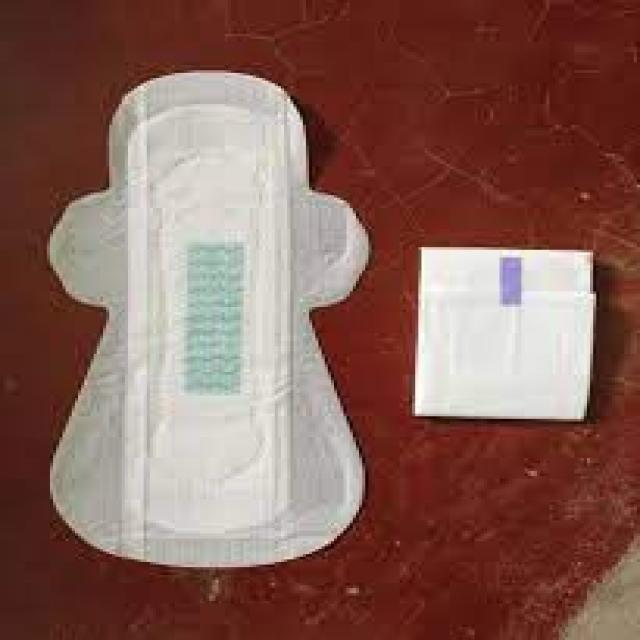napkin: (51, 71, 369, 567)
